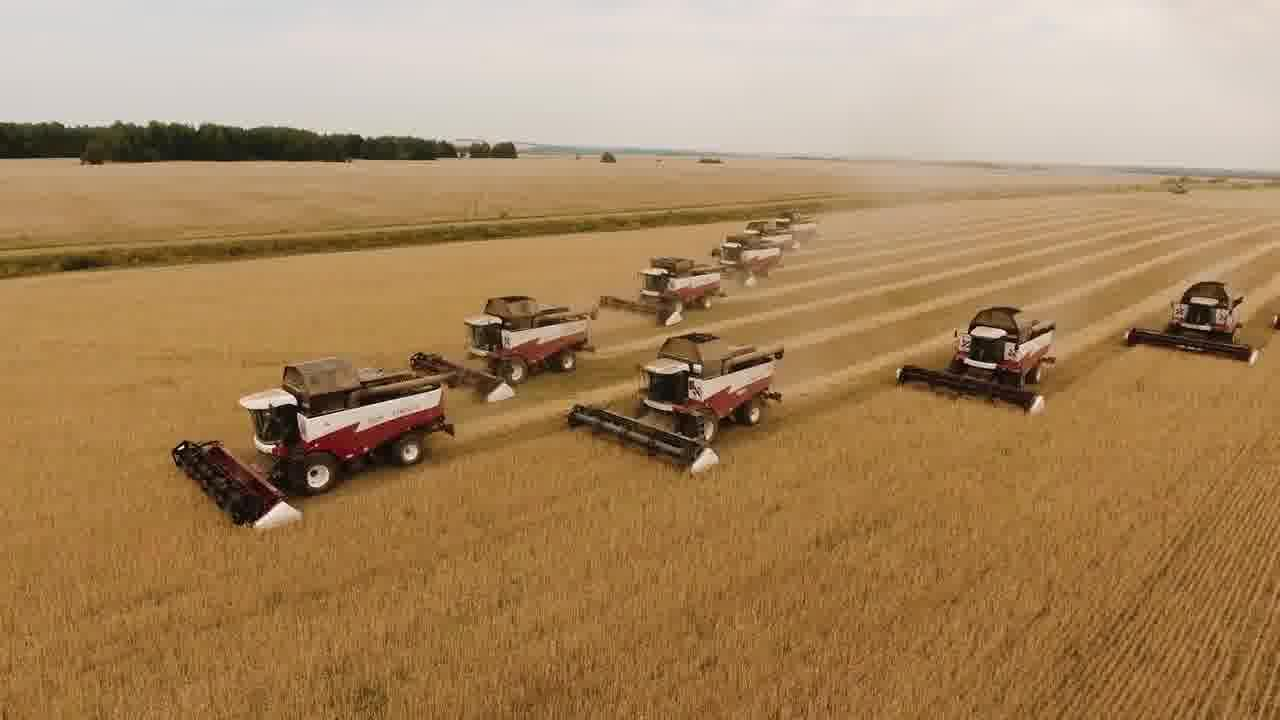combine harvester: (171, 350, 461, 535), (558, 329, 790, 483), (409, 288, 593, 409), (888, 298, 1061, 417), (1115, 280, 1263, 374), (595, 252, 720, 325), (711, 218, 784, 287), (770, 205, 826, 246)
